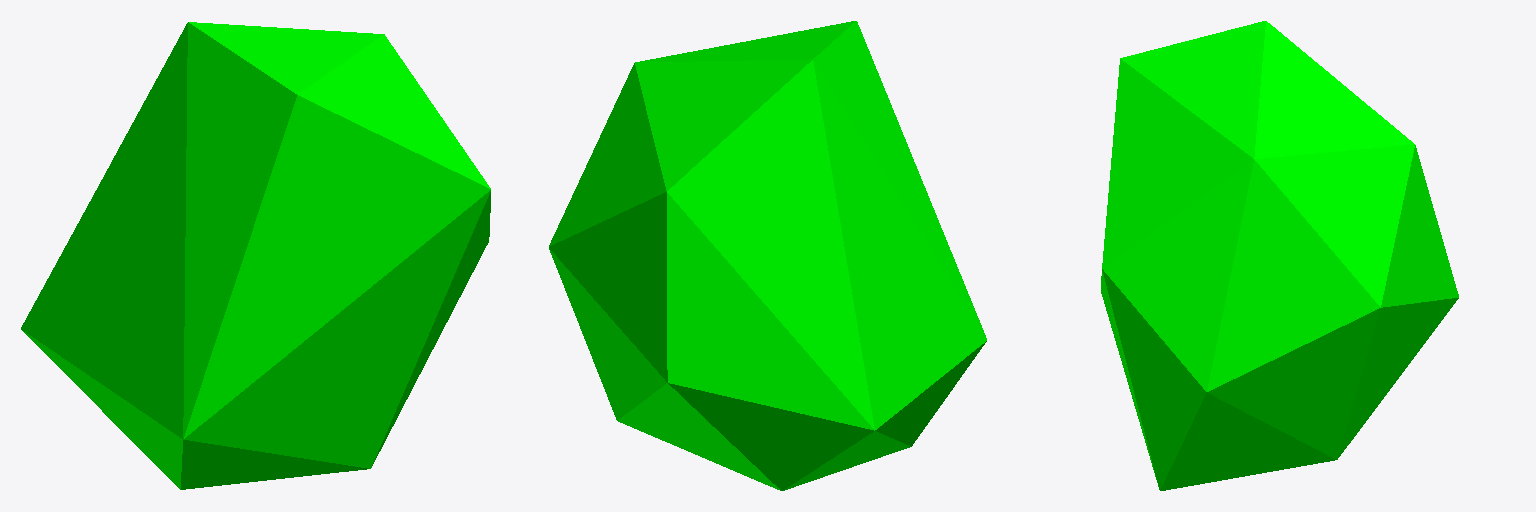
robot.urdf — hrp2_larm_rom:
<robot name="hrp2_larm_rom">
  <link name="base_link"/>
  <joint name="WAIST" type="fixed">
    <parent link="base_link"/>
    <child link="BODY"/>
    <origin rpy="0 0 0" xyz="0 0 0"/>
  </joint>
  <link name="BODY">
  </link>
  <!-- Chest -->
  <joint name="CHEST_JOINT0" type="revolute">
    <parent link="BODY"/>
    <child link="CHEST_LINK0"/>
    <origin rpy="0 0 0" xyz="0.032 0 0.3507"/>
    <axis xyz="0 0 1"/>
    <limit effort="151.1" lower="-0.785398" upper="0.785398" velocity="4.40217"/>
  </joint>
  <link name="CHEST_LINK0">
  </link>
  <joint name="CHEST_JOINT1" type="revolute">
    <parent link="CHEST_LINK0"/>
    <child link="torso"/>
    <origin rpy="0 0 0" xyz="0 0 0"/>
    <axis xyz="0 1 0"/>
    <limit effort="278.9" lower="-0.0872665" upper="1.0472" velocity="2.3963"/>
  </joint>
  <link name="torso">  
    <visual>
      <origin xyz="-0.032 -0 -0.3507" rpy="0 0 0.003" />
      <geometry>
        <mesh filename="package://hpp-rbprm-corba/meshes/hrp2_larm_rom.stl"/>
      </geometry>
      <material name="green">
        <color rgba="0 1 0 0.3"/>
      </material>
    </visual>
    <collision>
      <origin xyz="-0.032 -0 -0.3507" rpy="0 0 0.003" />
      <geometry>
        <mesh filename="package://hpp-rbprm-corba/meshes/hrp2_larm_rom.stl"/>
      </geometry>
    </collision>
  </link>
</robot>

--- Render facts (derived) ---
The picture shows the robot from 3 angles, left to right: view 1: azimuth 30°, elevation 25°; view 2: azimuth 150°, elevation 25°; view 3: azimuth 270°, elevation 25°; orthographic projection.
Model hrp2_larm_rom with 4 links and 3 joints (2 revolute, 1 fixed), rooted at base_link, posed all joints at 0.
Visible links, largest first — view 1: torso; view 2: torso; view 3: torso.
Link boxes in pixels (left/top/right/bottom): torso: left=21, top=22, right=490, bottom=489; torso: left=549, top=21, right=986, bottom=490; torso: left=1101, top=21, right=1458, bottom=490.
Size in the robot's own frame: 1.03 by 0.8763 by 1.11 metres.
Meshes: 1 distinct files referenced, 1 mesh visuals loaded (1 binary STL).